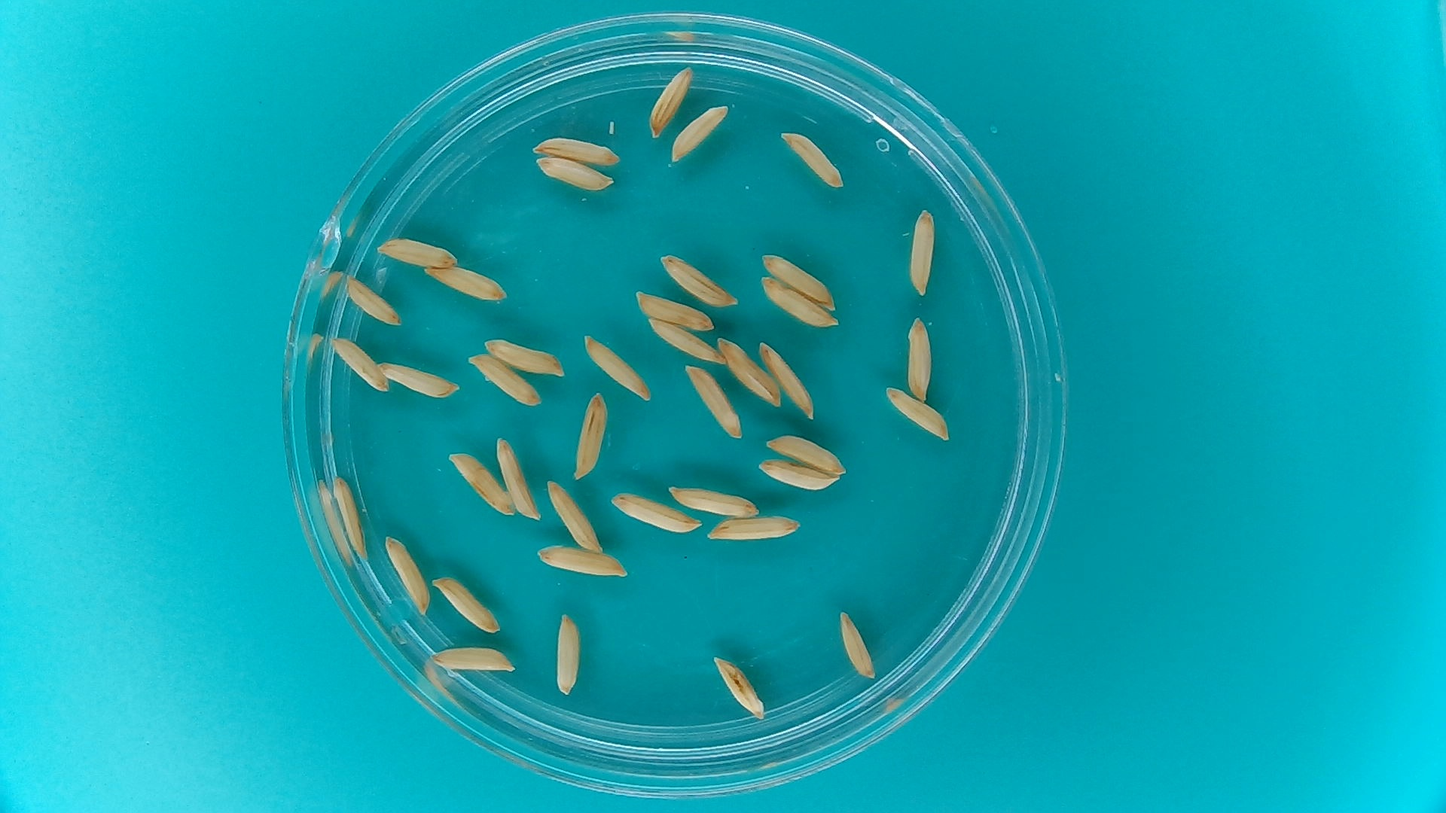no: (683, 361, 744, 440), (758, 338, 817, 419), (428, 573, 504, 635), (715, 335, 781, 406), (542, 475, 602, 553), (880, 384, 956, 445), (758, 251, 837, 309), (657, 251, 740, 306), (447, 449, 515, 516), (583, 333, 651, 400), (757, 274, 840, 326), (465, 352, 544, 406), (606, 491, 701, 535), (494, 434, 541, 521), (710, 651, 767, 721), (779, 129, 845, 189), (383, 532, 430, 616), (668, 102, 730, 164), (646, 62, 696, 138), (529, 133, 629, 171), (645, 316, 723, 364), (761, 431, 849, 473), (534, 542, 629, 580), (834, 606, 880, 684), (633, 289, 715, 332), (329, 474, 369, 562), (664, 483, 760, 519), (483, 336, 567, 377), (422, 263, 510, 302), (328, 334, 388, 391), (573, 388, 609, 481), (377, 361, 461, 400), (755, 456, 845, 492), (532, 154, 615, 192), (343, 273, 401, 327), (706, 512, 803, 543), (428, 642, 517, 675), (374, 234, 459, 268), (553, 611, 584, 697), (904, 315, 935, 400), (907, 206, 936, 296)
